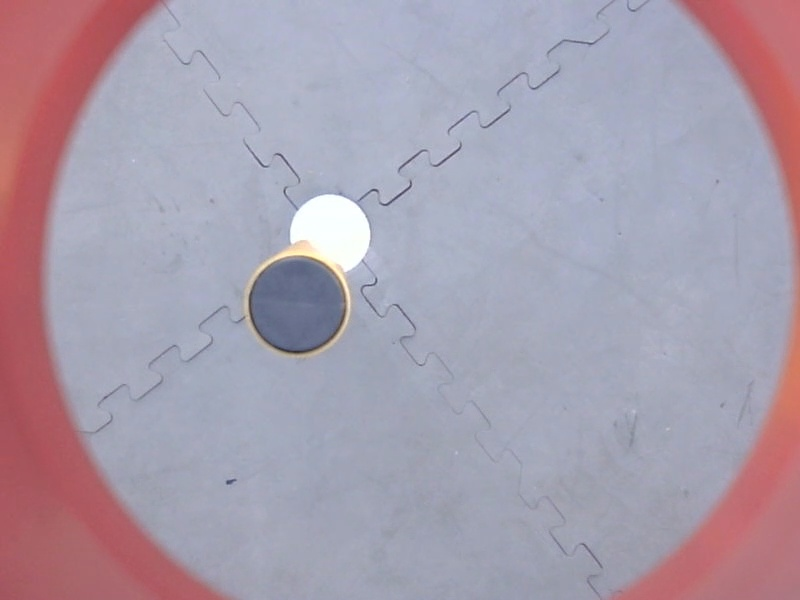tip: (240, 249, 356, 365)
